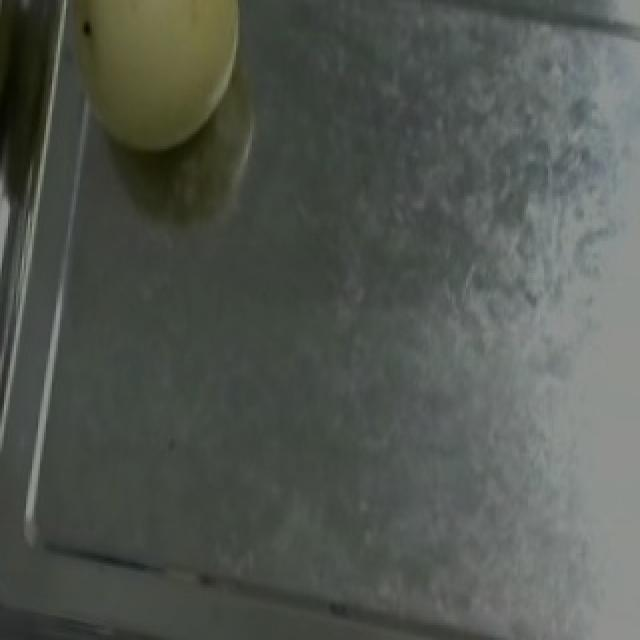Fruit: (36, 0, 258, 171)
